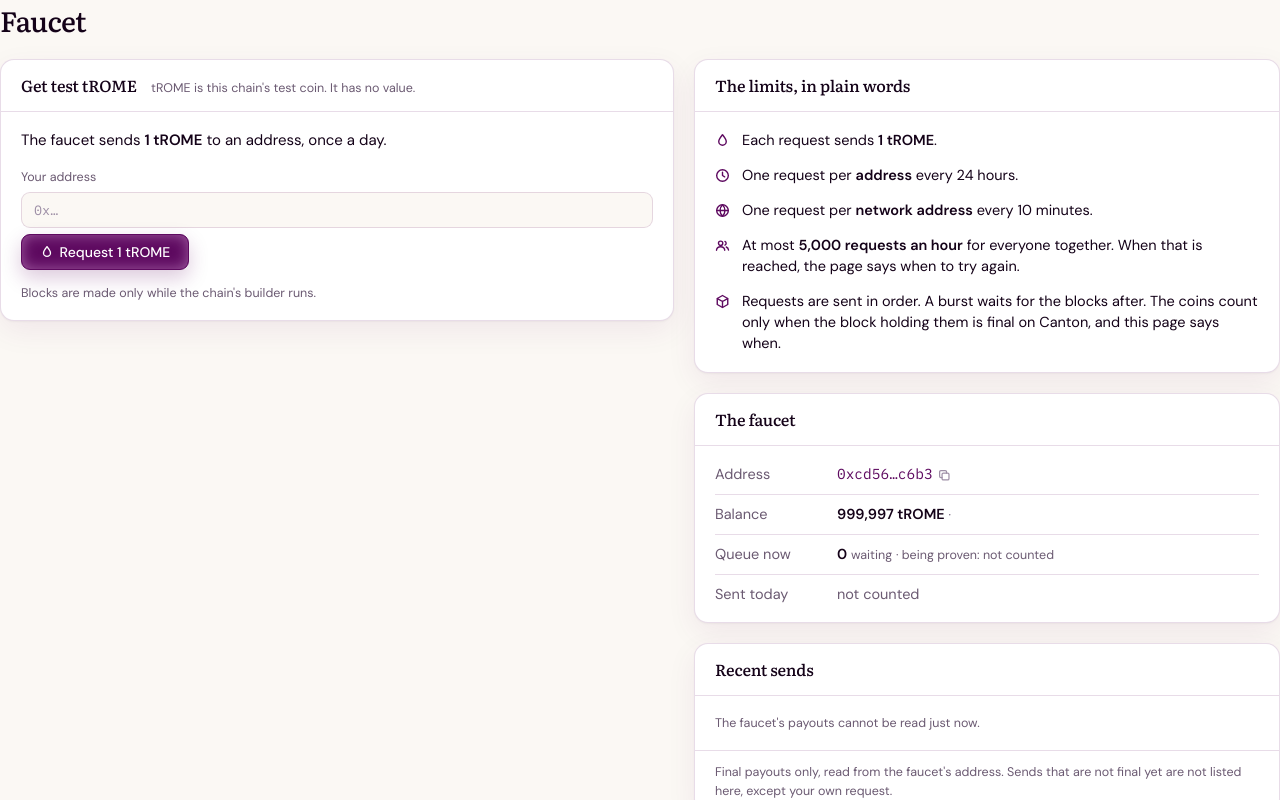
Test: a request that is taken › stops asking once the request is final
Type "0x5a04de5c5ebd085f5e3b3ec791ab5cdc8e2b56f0" into the field labelled "Your address" at [337, 210], box 21,192 -> 653,228
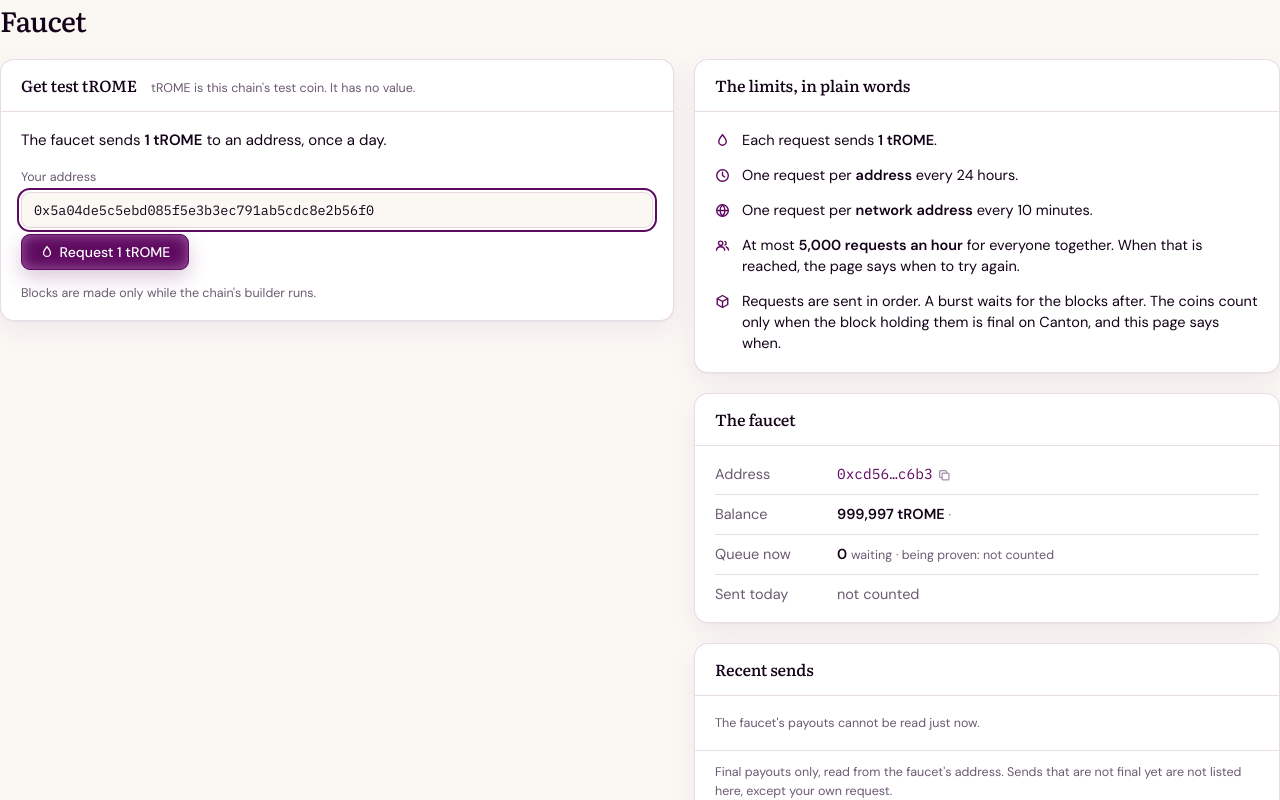
Click the button "Request 1 tROME" at [105, 252], box 21,234 -> 189,270
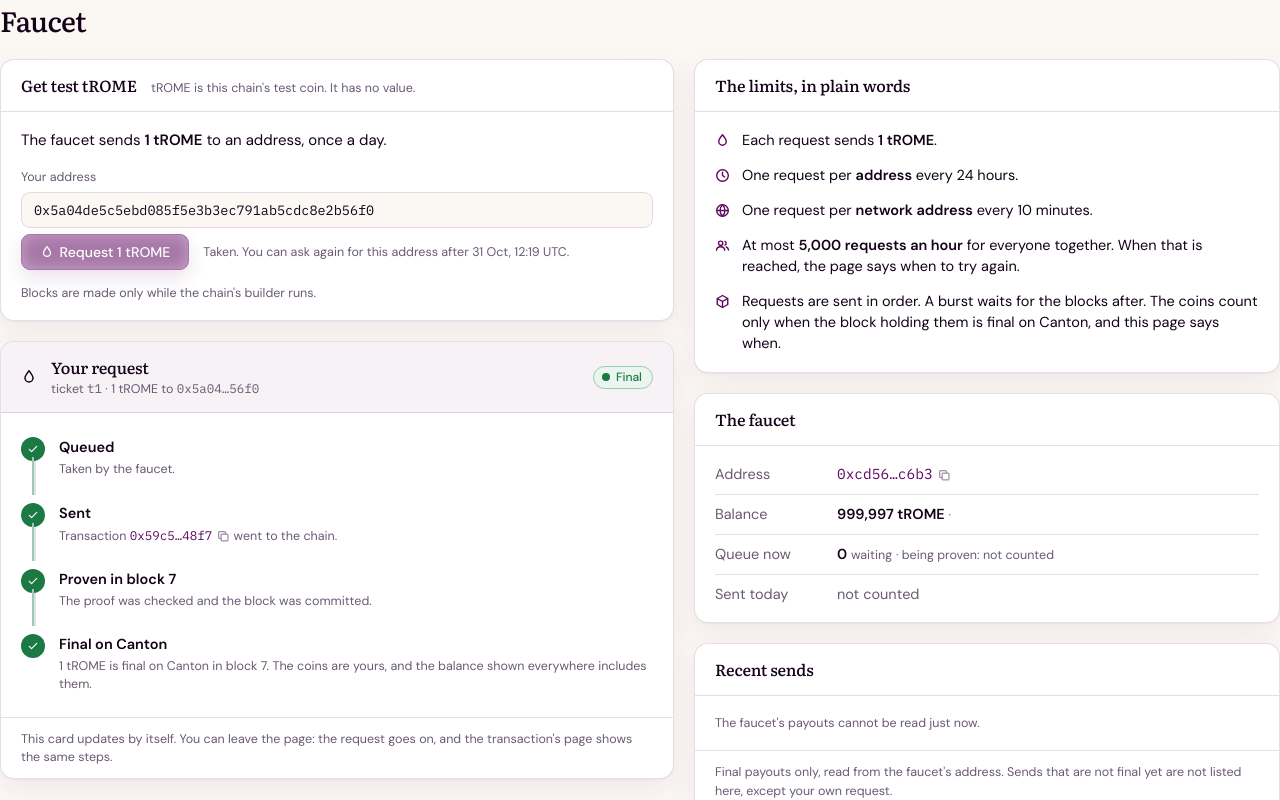
Expected: the text "tROME is final on Canton" is shown, 59,657 -> 653,693
